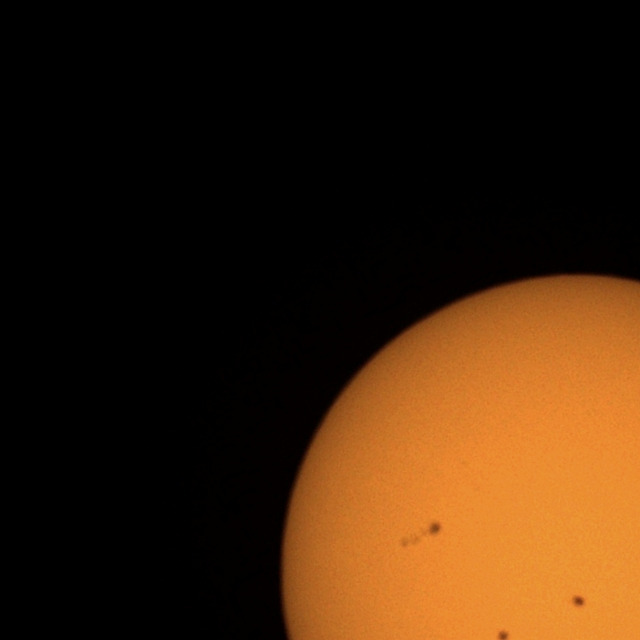sunspot: (398, 520, 442, 550), (570, 594, 586, 609), (495, 628, 511, 640)
